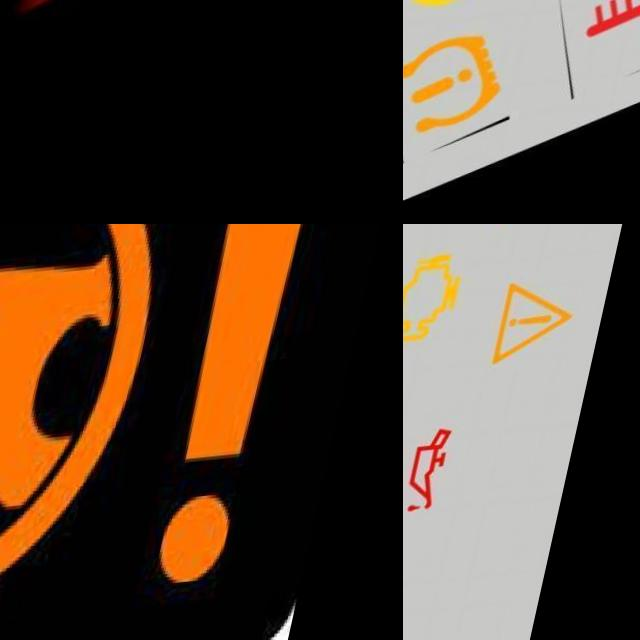Electronic Power Steering: (0, 224, 375, 640)
